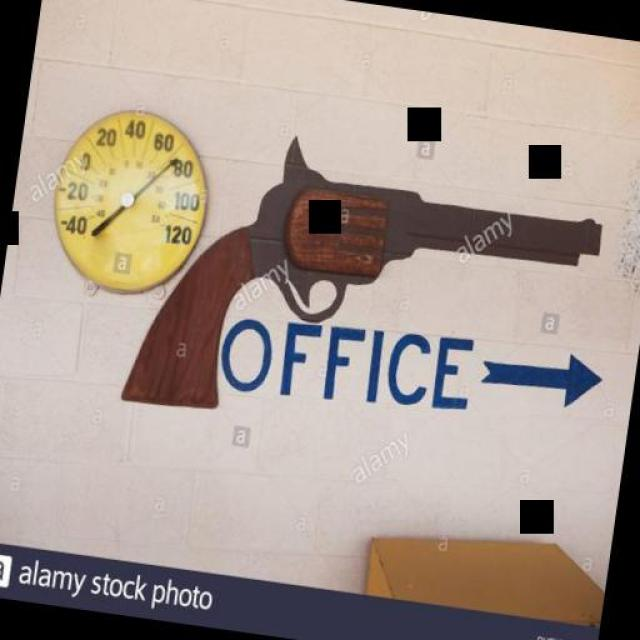gun: (118, 106, 612, 462)
